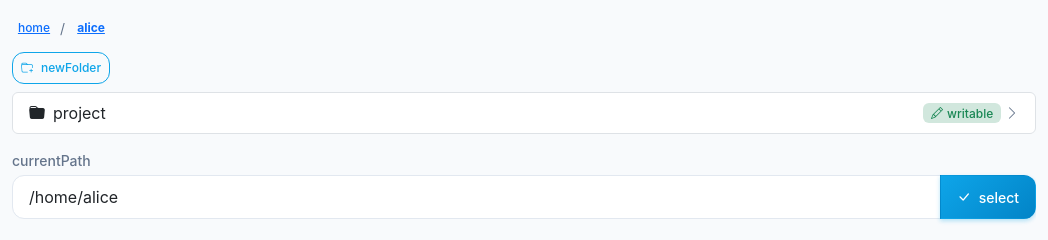
Test case: LocalDirectoryBrowser Integration - Issue #1832 F3 › lockToRoot and rootPath path validation › allows navigation within rootPath subtree
The width and height of the screenshot is (1048, 240).
// Navigate into project directory (within rootPath)
Click the text "project" at (79, 113), box [53,101,106,125]
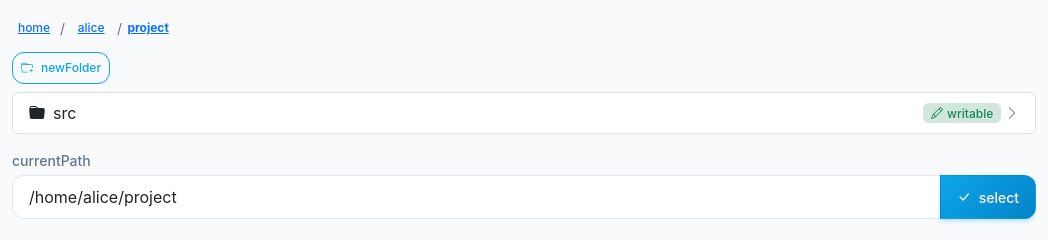
Expected: the text "src" is shown, [53,101,76,125]
